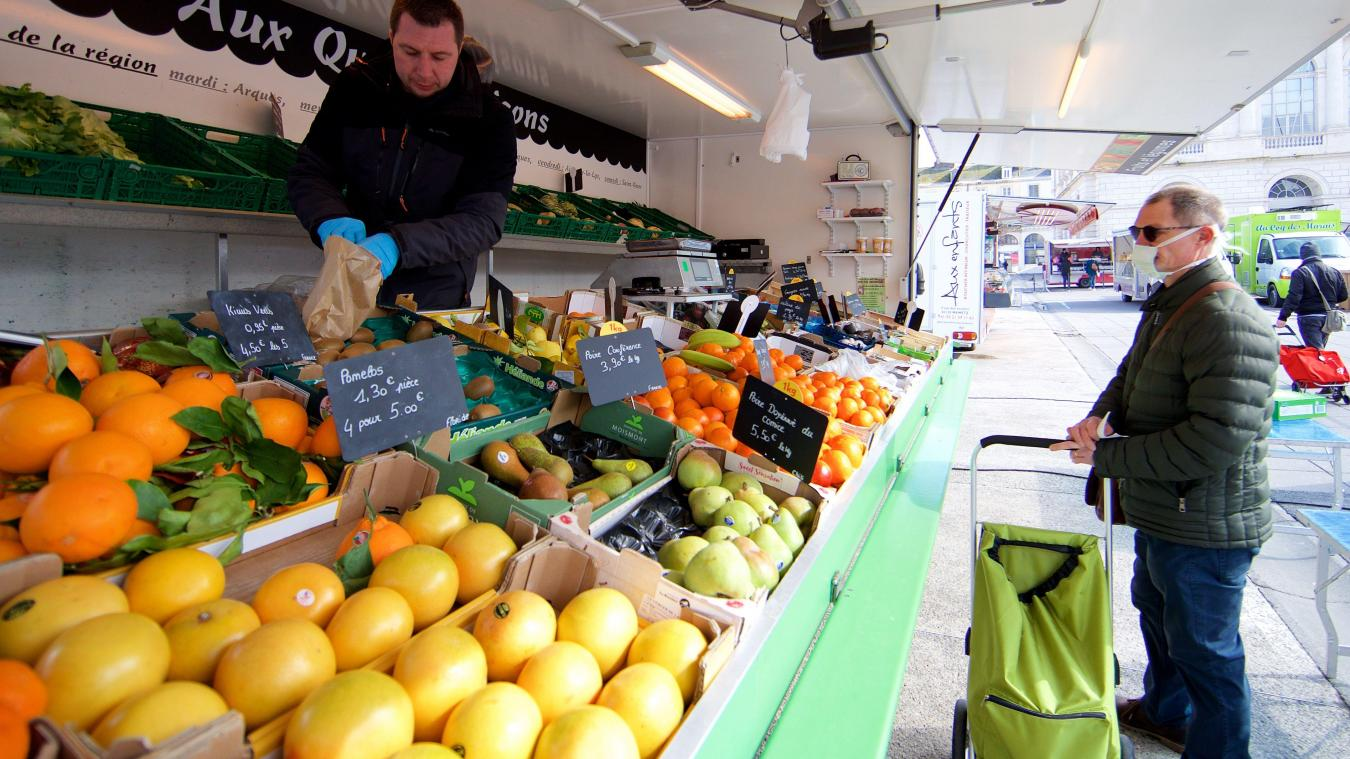with_mask: (1134, 215, 1209, 282)
without_mask: (397, 22, 455, 97)
